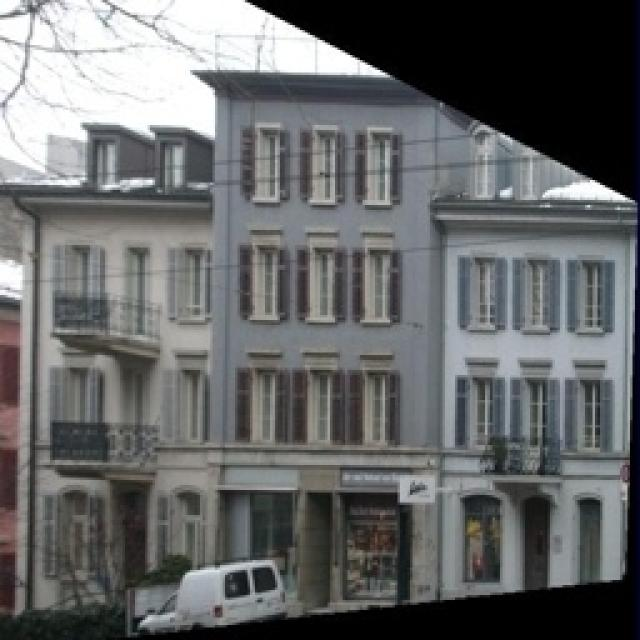building: (12, 42, 640, 610)
